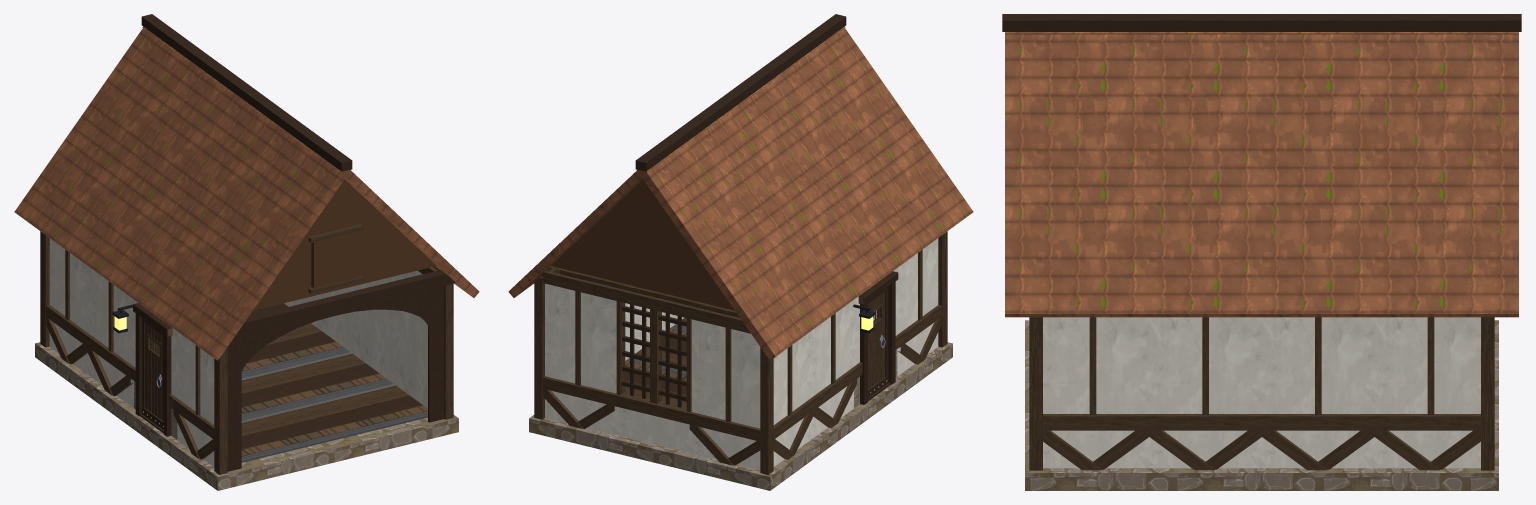
The model's file is boathouse.glb.
3 renders of one model, left to right at view 1: azimuth 30°, elevation 25°; view 2: azimuth 150°, elevation 25°; view 3: azimuth 270°, elevation 25°, orthographic. The views are drawn at different scales.
Parts seen in each view (by area): view 1: RoofSlab.022, Floor.020, Footing.001, Gable.023, Wall_Arch.002, Wall_Plaster_Straight.006, Wall_Plaster_Straight.007, Wall_Plaster_Straight.011, Ridge.024, Beam.025, Wall_Plaster_Straight.012, Wall_Plaster_Straight.013 (+9 smaller); view 2: RoofSlab.022, Wall_Plaster_Straight.003, Wall_Plaster_Straight.005, Wall_Plaster_WoodGrid.004, Gable.023, Footing.001, Wall_Plaster_Straight.007, Wall_Plaster_Straight.011, Wall_Plaster_Straight.006, Ridge.024, RoofSlab.021, DoorFrame_Flat_WoodDark.009 (+6 smaller); view 3: RoofSlab.021, Wall_Plaster_Straight.013, Wall_Plaster_Straight.014, Wall_Plaster_Straight.012, Wall_Plaster_Straight.015, Footing.001, Ridge.024, Corner_Exterior_Wood.017, Corner_Exterior_Wood.019, RoofSlab.022.
Part boxes in pixels (x1,y1,x2,y2): RoofSlab.022: [14, 28, 351, 360]; Floor.020: [153, 303, 427, 462]; Footing.001: [35, 342, 458, 490]; Gable.023: [253, 179, 436, 310]; Wall_Arch.002: [227, 286, 444, 471]; Wall_Plaster_Straight.006: [46, 238, 90, 376]; Wall_Plaster_Straight.007: [87, 268, 133, 407]; Wall_Plaster_Straight.011: [174, 332, 214, 466]; Ridge.024: [141, 14, 352, 171]; Beam.025: [234, 270, 455, 337]; Wall_Plaster_Straight.012: [396, 266, 438, 408]; Wall_Plaster_Straight.013: [352, 276, 395, 384]; RoofSlab.022: [636, 28, 973, 360]; Wall_Plaster_Straight.003: [539, 266, 623, 435]; Wall_Plaster_Straight.005: [689, 302, 760, 470]; Wall_Plaster_WoodGrid.004: [614, 283, 698, 453]; Gable.023: [551, 179, 734, 310]; Footing.001: [529, 342, 952, 490]; Wall_Plaster_Straight.007: [810, 300, 857, 439]; Wall_Plaster_Straight.011: [897, 238, 941, 376]; Wall_Plaster_Straight.006: [773, 332, 813, 466]; Ridge.024: [635, 14, 846, 171]; RoofSlab.021: [508, 26, 845, 297]; DoorFrame_Flat_WoodDark.009: [858, 271, 898, 404]; RoofSlab.021: [1005, 34, 1518, 317]; Wall_Plaster_Straight.013: [1149, 317, 1261, 470]; Wall_Plaster_Straight.014: [1262, 317, 1374, 470]; Wall_Plaster_Straight.012: [1043, 317, 1149, 470]; Wall_Plaster_Straight.015: [1374, 317, 1480, 470]; Footing.001: [1025, 320, 1498, 490]; Ridge.024: [1002, 14, 1521, 31]; Corner_Exterior_Wood.017: [1029, 317, 1042, 470]; Corner_Exterior_Wood.019: [1481, 317, 1494, 470]; RoofSlab.022: [1005, 32, 1518, 34].
Size of the model in its own units: 7.1 by 7.76 by 9.2.
9 materials, 6 textured.
